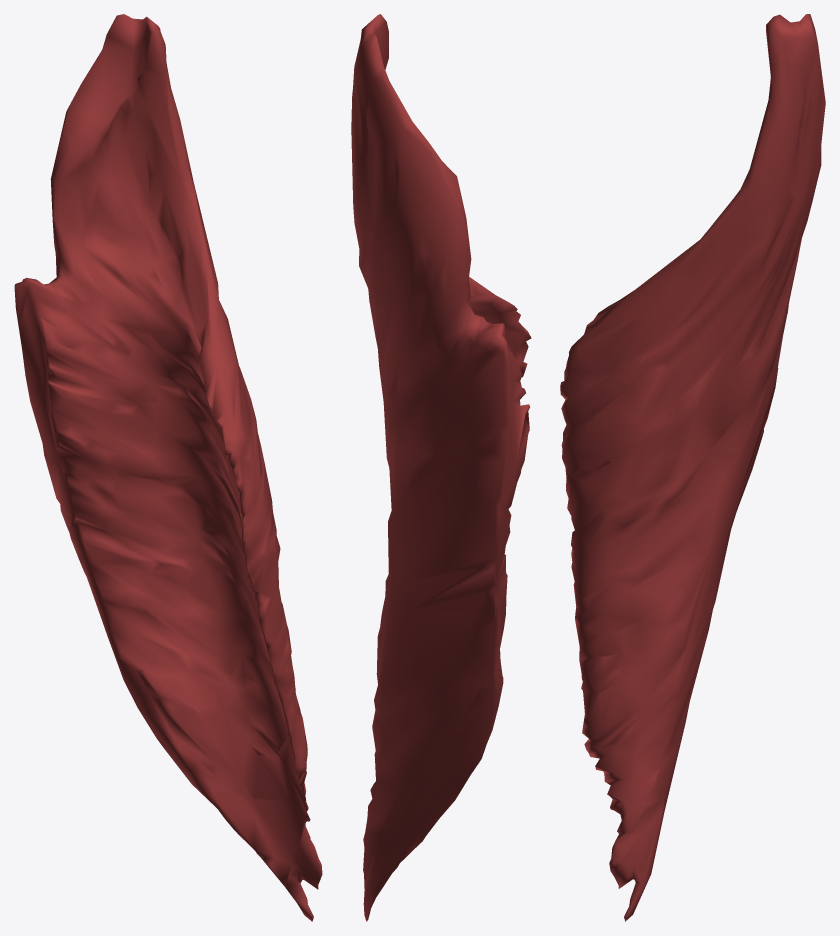
The model's file is supinator-l.glb.
3 renders of one model, left to right at view 1: azimuth 30°, elevation 25°; view 2: azimuth 150°, elevation 25°; view 3: azimuth 270°, elevation 25°, orthographic. The views are drawn at different scales.
Parts seen in each view (by area): view 1: Supinator.l; view 2: Supinator.l; view 3: Supinator.l.
Boxes of the visible parts, x1,y1,x2,y2 form: Supinator.l: [14, 14, 322, 921]; Supinator.l: [351, 14, 531, 921]; Supinator.l: [560, 14, 825, 921].
Bounding box in the file's own units: 0.0329 × 0.128 × 0.0356.
